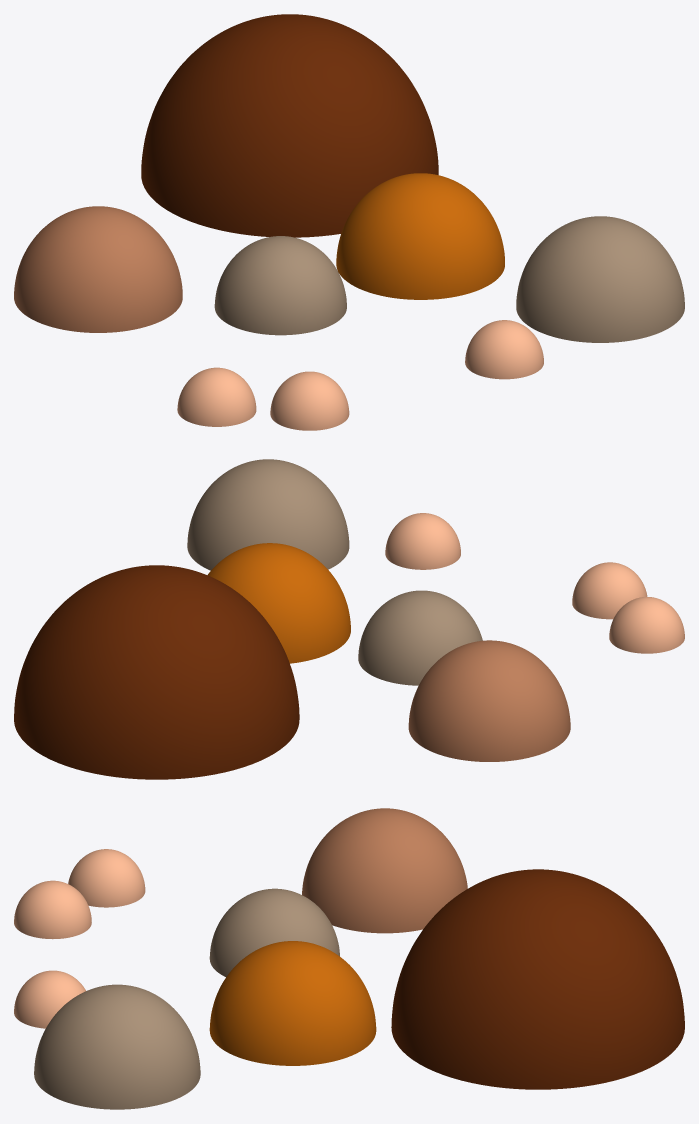
The model's file is Beach_Rocks.glb.
The picture shows the model from 3 angles, top to bottom: view 1: azimuth 30°, elevation 25°; view 2: azimuth 150°, elevation 25°; view 3: azimuth 270°, elevation 25°; orthographic projection. The views are drawn at different scales.
Visible parts, largest first — view 1: mesh_id61, mesh_id36, mesh_id50, mesh_id30, mesh_id42, mesh_id84, mesh_id110, mesh_id67; view 2: mesh_id61, mesh_id30, mesh_id50, mesh_id36, mesh_id42, mesh_id67, mesh_id110, mesh_id84; view 3: mesh_id61, mesh_id50, mesh_id36, mesh_id30, mesh_id42, mesh_id84, mesh_id67, mesh_id110.
Boxes of the visible parts, x1,y1,x2,y2 form: mesh_id61: [141, 14, 438, 237]; mesh_id36: [336, 173, 504, 299]; mesh_id50: [516, 216, 684, 342]; mesh_id30: [14, 206, 182, 332]; mesh_id42: [214, 236, 346, 335]; mesh_id84: [270, 371, 349, 430]; mesh_id110: [465, 320, 543, 379]; mesh_id67: [177, 367, 256, 426]; mesh_id61: [14, 565, 299, 779]; mesh_id30: [408, 640, 570, 761]; mesh_id50: [187, 459, 349, 570]; mesh_id36: [207, 543, 350, 663]; mesh_id42: [358, 590, 482, 685]; mesh_id67: [609, 597, 684, 653]; mesh_id110: [385, 513, 460, 569]; mesh_id84: [572, 562, 647, 619]; mesh_id61: [391, 869, 684, 1089]; mesh_id50: [34, 984, 200, 1109]; mesh_id36: [209, 941, 376, 1065]; mesh_id30: [302, 808, 467, 933]; mesh_id42: [209, 888, 339, 976]; mesh_id84: [14, 880, 91, 939]; mesh_id67: [68, 849, 145, 907]; mesh_id110: [14, 970, 85, 1028].
Size of the model in its own units: 1.08 by 0.3039 by 1.24.
Materials: 6 (6 with a texture image).
